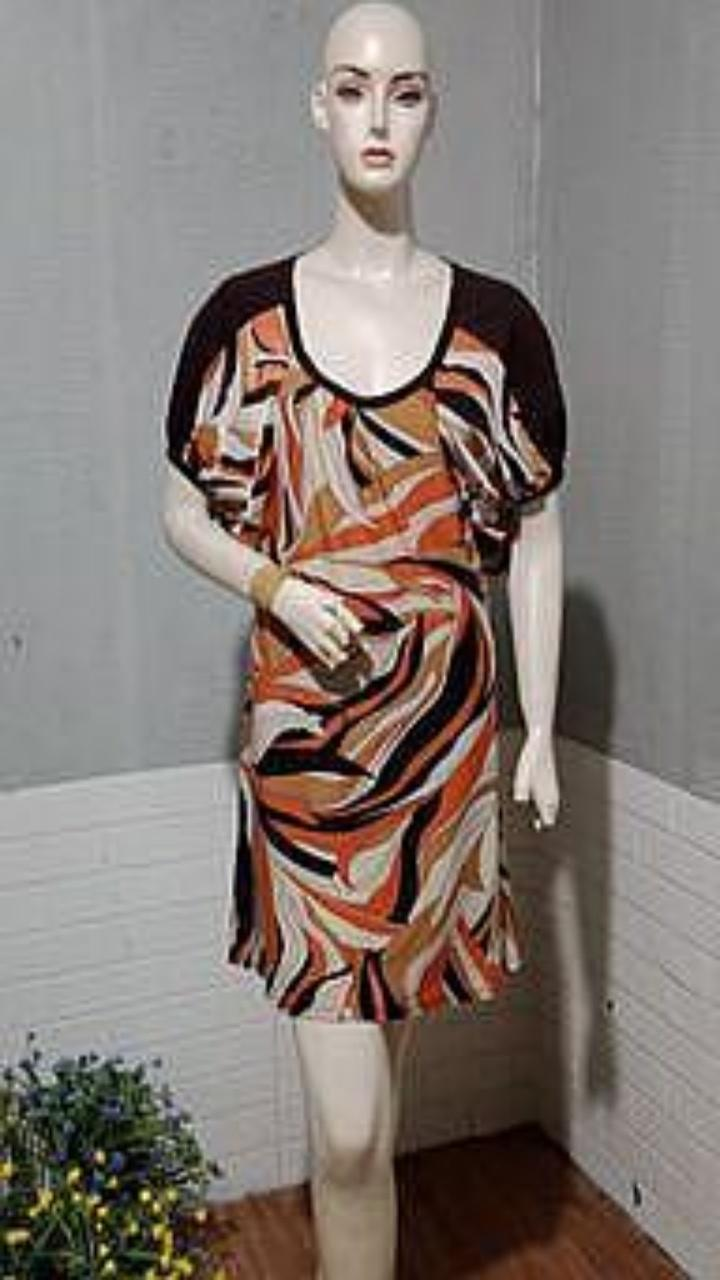Dresses: (166, 255, 565, 1022)
